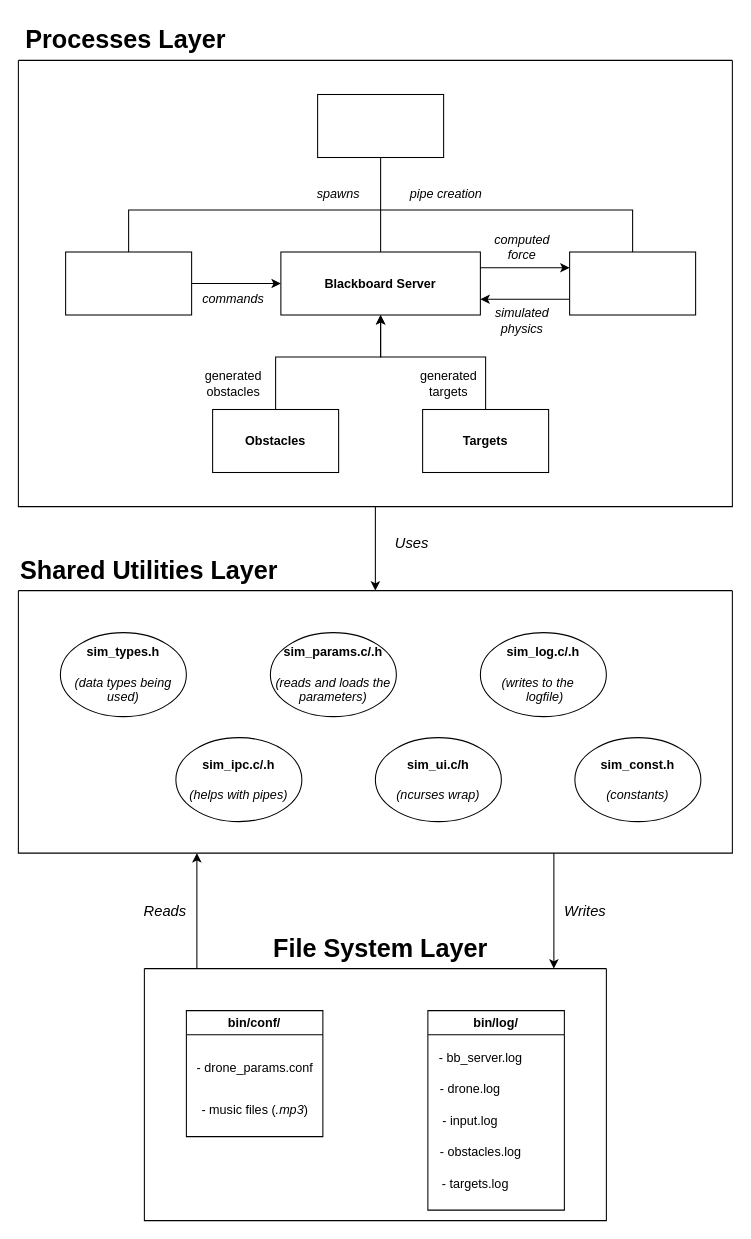
The diagram is 751 pixels wide and 1239 high, and some of its shapes have lost their labels. Here are the shapes that lost their labels. From the top down, the centre of each, then its label:
the point at 380,125: Master Process
the point at 128,283: Input
the point at 632,283: Drone
